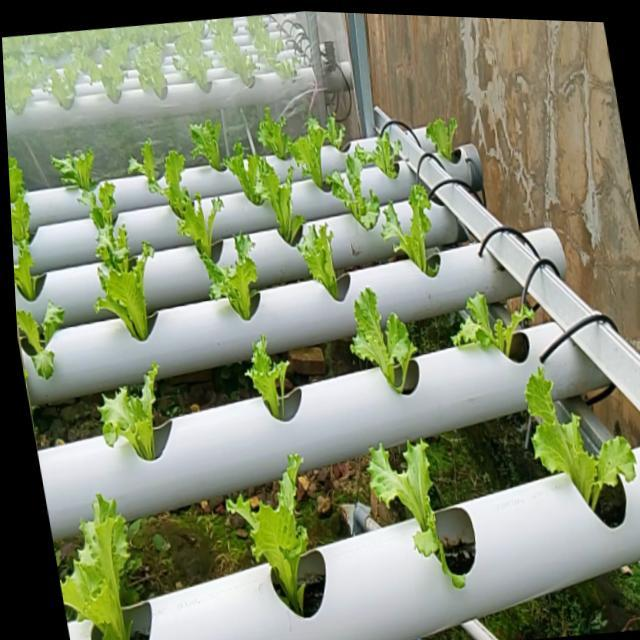Baby: (527, 361, 639, 503), (369, 434, 467, 582), (226, 449, 309, 610), (60, 491, 133, 640), (352, 281, 418, 386), (151, 168, 225, 260), (243, 151, 307, 243), (101, 360, 159, 456), (453, 282, 538, 346), (383, 177, 441, 270), (184, 110, 244, 196), (327, 144, 382, 227), (100, 254, 150, 339), (291, 110, 346, 185), (93, 200, 139, 289), (18, 300, 67, 378), (298, 219, 344, 296), (247, 331, 289, 413), (222, 232, 259, 316), (357, 121, 404, 175), (129, 138, 166, 193), (9, 164, 33, 246), (53, 147, 97, 190), (258, 104, 292, 157), (427, 109, 459, 151)
